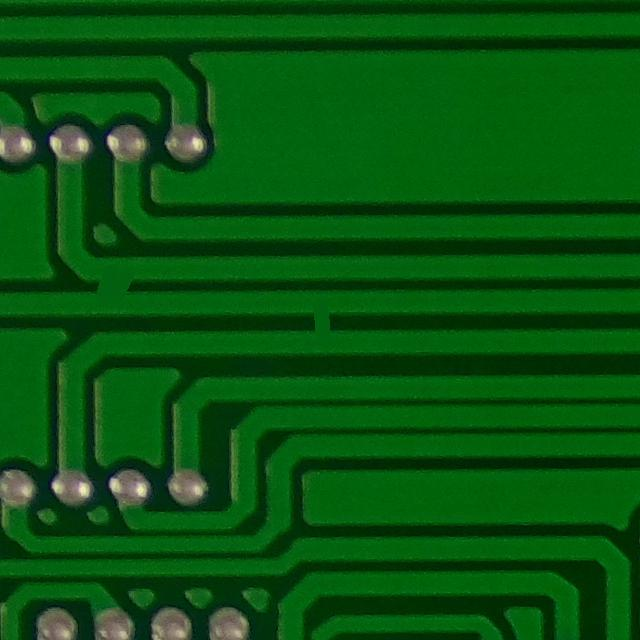short: (290, 284, 351, 356)
